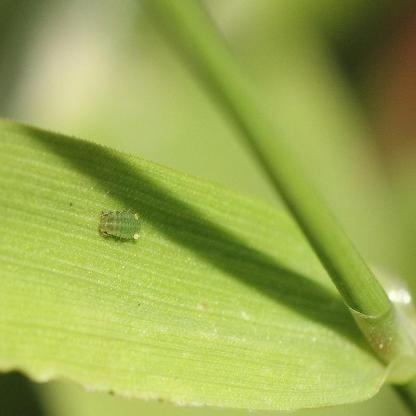aphid: (91, 198, 153, 246)
